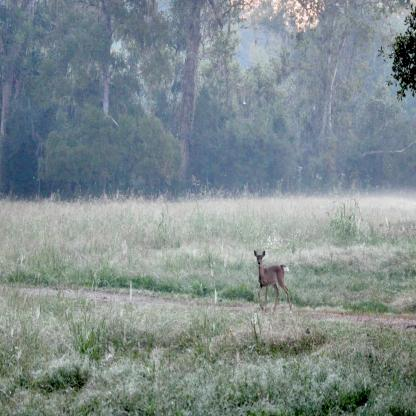Deer: (254, 249, 292, 313)
